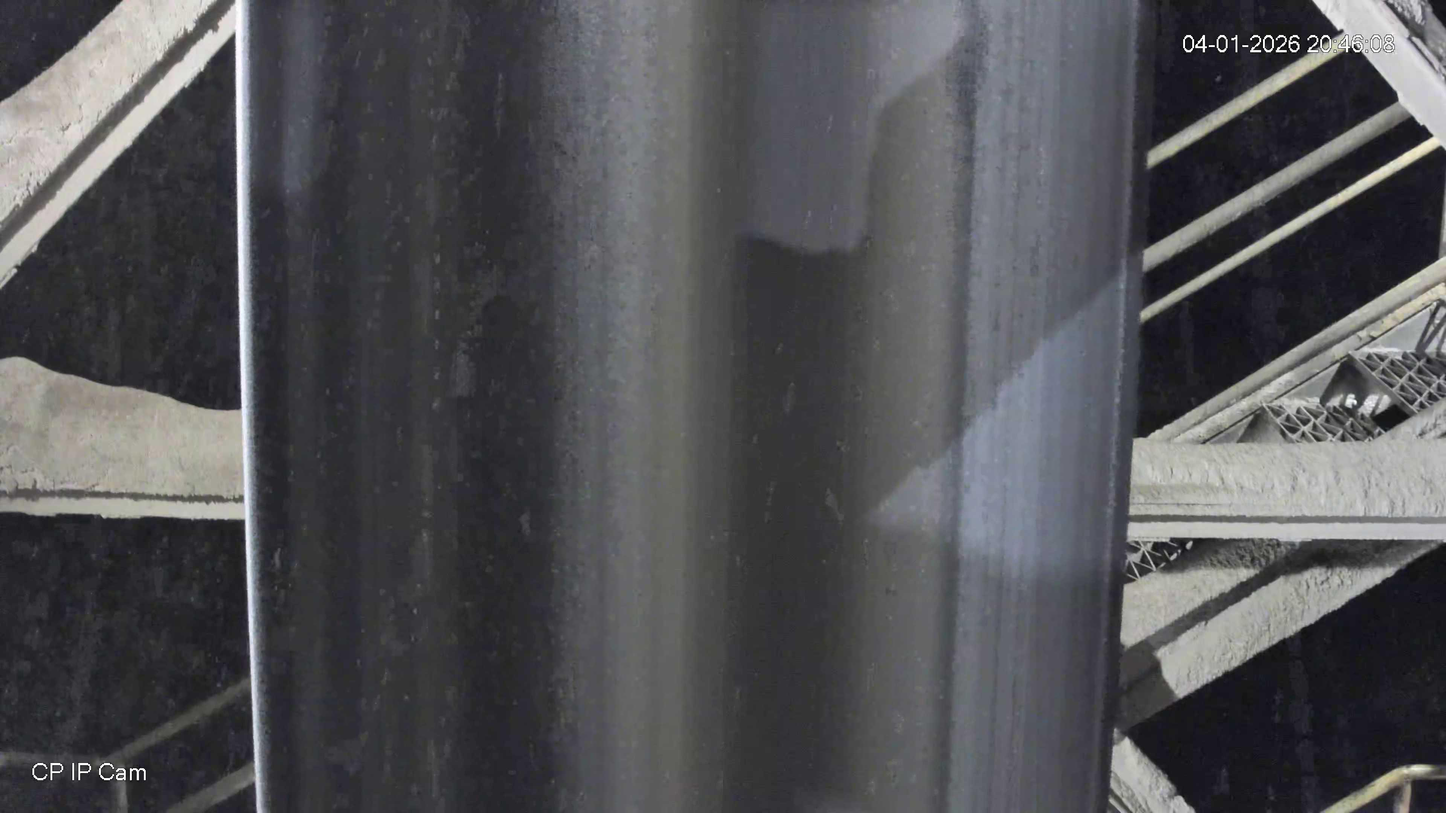belt_roi: (237, 0, 1156, 813)
